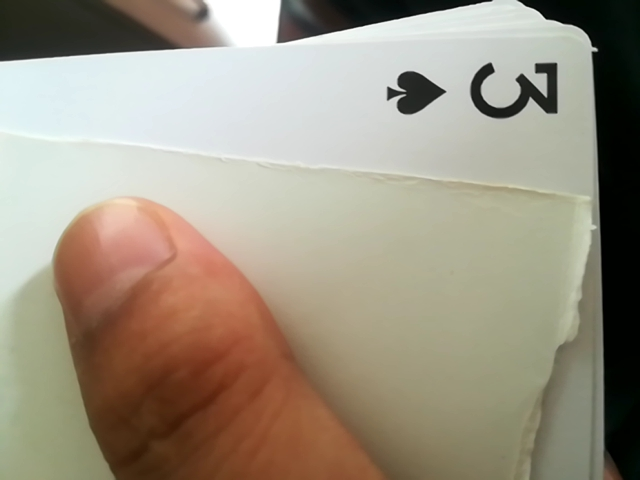ht 3: (356, 47, 574, 160)
